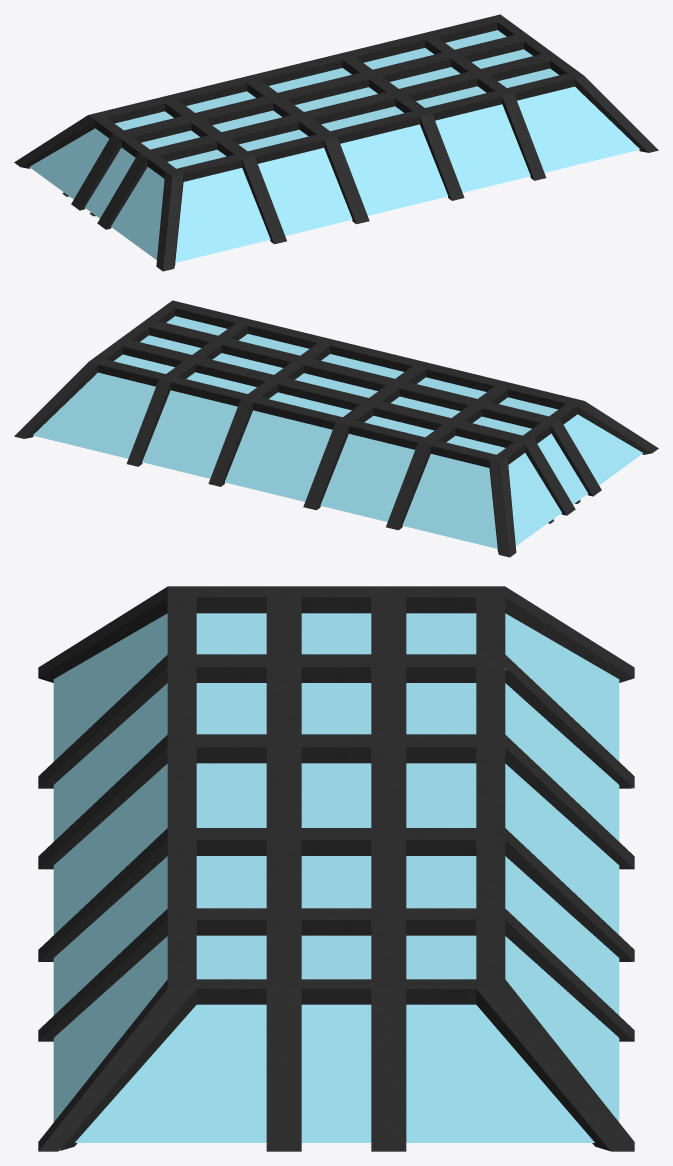
The model's file is TechoVentana.obj.
The picture shows the model from 3 angles, top to bottom: view 1: azimuth 30°, elevation 25°; view 2: azimuth 150°, elevation 25°; view 3: azimuth 270°, elevation 25°; orthographic projection. The views are drawn at different scales.
Parts seen in each view (by area): view 1: polySurface15; view 2: polySurface15; view 3: polySurface15.
Boxes of the visible parts, bbox=[...] form: polySurface15: bbox=[14, 14, 658, 271]; polySurface15: bbox=[14, 300, 658, 557]; polySurface15: bbox=[38, 586, 634, 1151].
Size of the model in its own units: 17.26 by 2.03 by 8.98.
2 materials, 2 textured.
